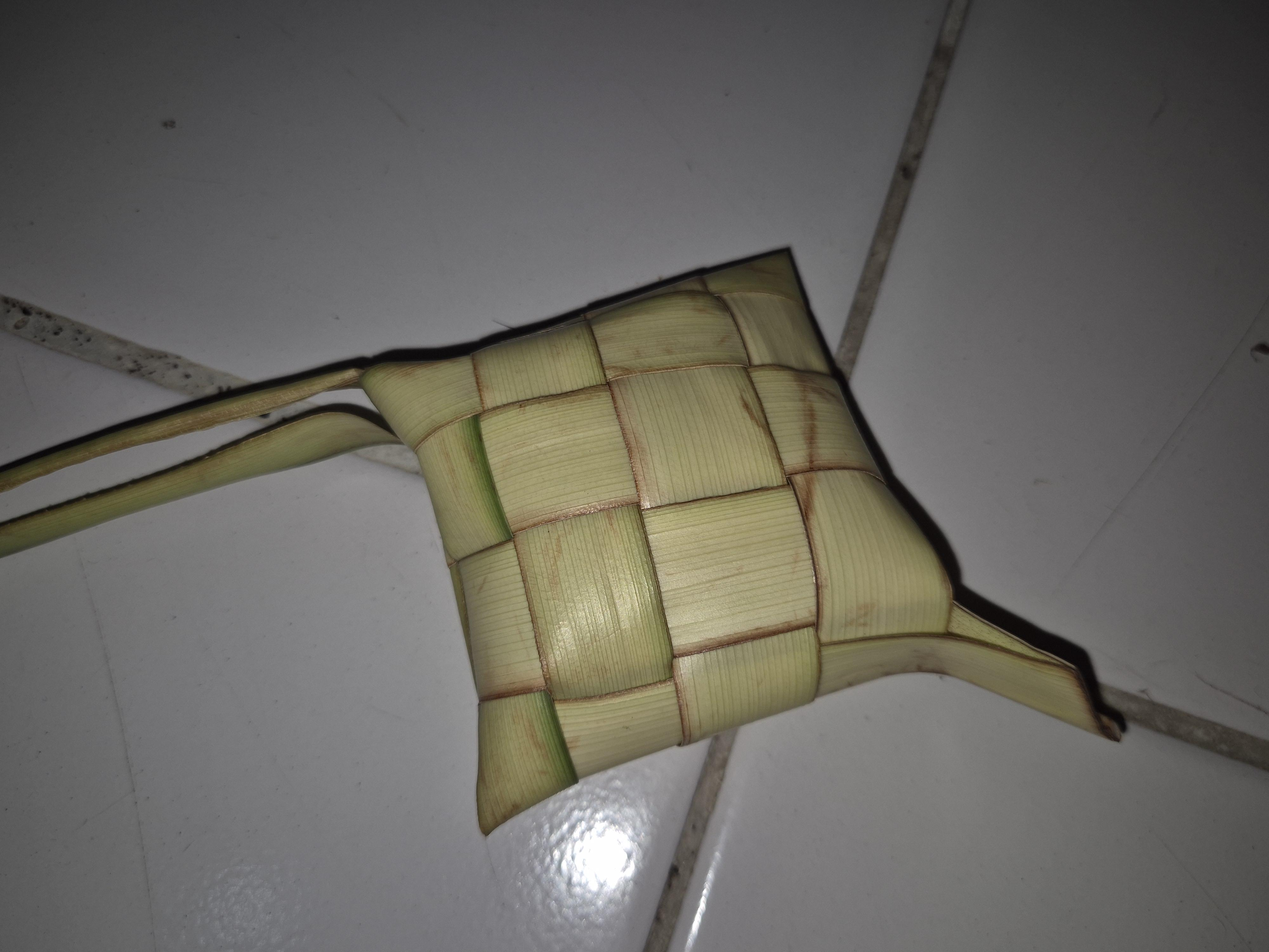Tipat Nasi: (167, 272, 932, 712)
